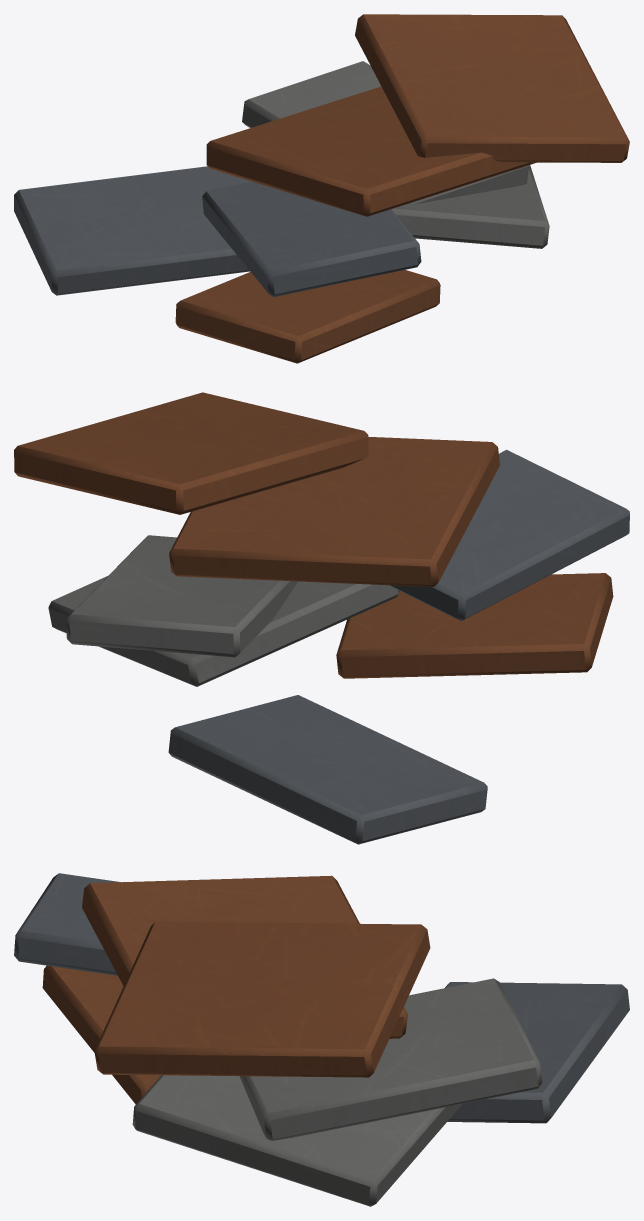
Rendered from scrap_pile_metal.glb.
The picture shows the model from 3 angles, top to bottom: view 1: azimuth 30°, elevation 25°; view 2: azimuth 150°, elevation 25°; view 3: azimuth 270°, elevation 25°; orthographic projection. The views are drawn at different scales.
Parts seen in each view (by area): view 1: scrap_pile_metal; view 2: scrap_pile_metal; view 3: scrap_pile_metal.
Boxes of the visible parts, left/top/right/bottom form: scrap_pile_metal: left=14, top=14, right=629, bottom=363; scrap_pile_metal: left=14, top=392, right=629, bottom=844; scrap_pile_metal: left=14, top=873, right=629, bottom=1206.
Size of the model in its own units: 1.13 by 0.4987 by 1.11.
3 materials, 3 textured.
